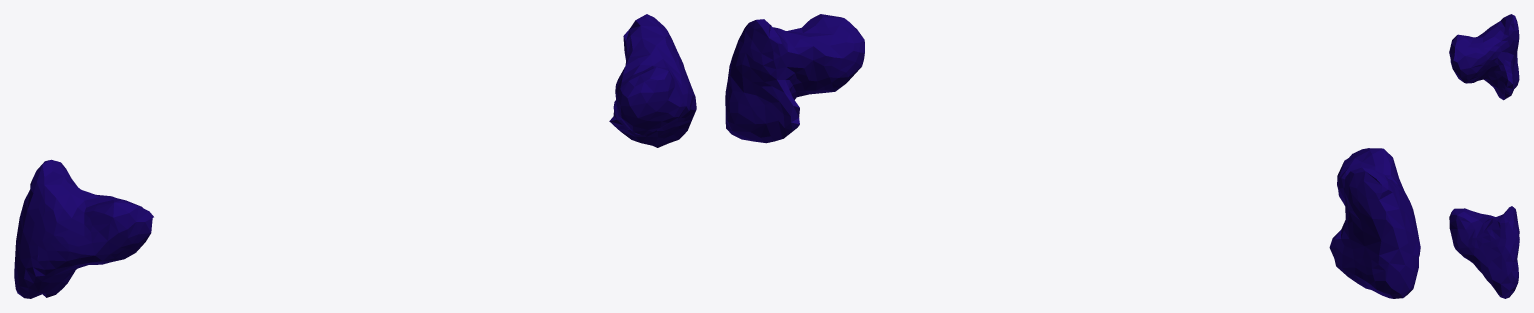
Rendered from 32-45A-area 45A of cortex-('0.1137', '0.0000', '0.4980').obj.
3 views of the same model, side by side, from view 1: azimuth 30°, elevation 25°; view 2: azimuth 150°, elevation 25°; view 3: azimuth 270°, elevation 25° (orthographic). The views are drawn at different scales.
Size of the model in its own units: 278 by 50.5 by 38.33.
